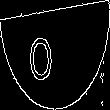O_N: (42, 27, 68, 83)
